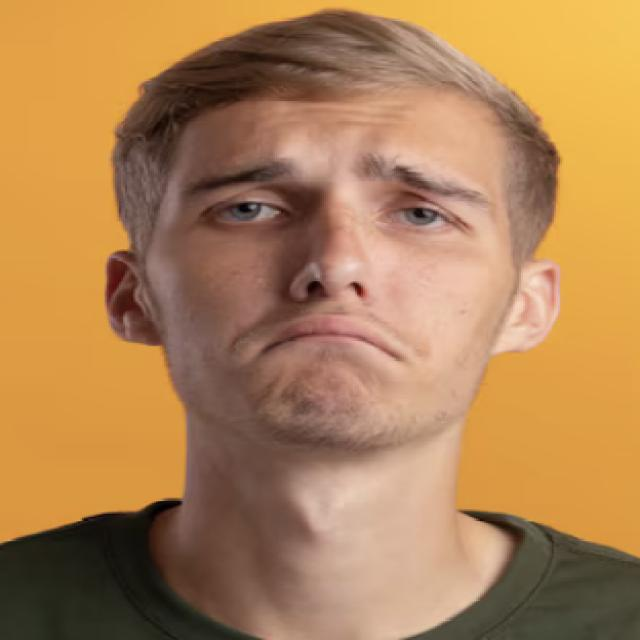sad: (180, 98, 470, 411)
